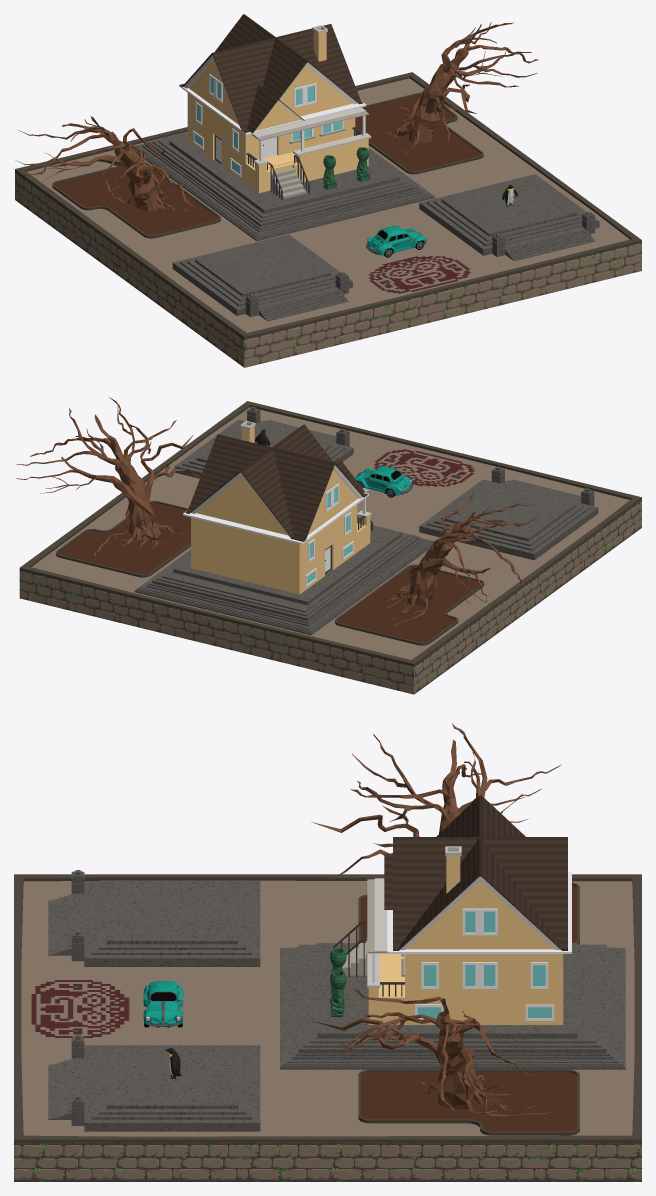
3 renders of one model, top to bottom at view 1: azimuth 30°, elevation 25°; view 2: azimuth 150°, elevation 25°; view 3: azimuth 270°, elevation 25°, orthographic. The views are drawn at different scales.
Visible parts, largest first — view 1: Cube.011, Cube.235, VEHICLES_VOLKSWAGEN; view 2: Cube.011, Cube.235, VEHICLES_VOLKSWAGEN; view 3: Cube.011, Cube.235, VEHICLES_VOLKSWAGEN.
Boxes of the visible parts, x1,y1,x2,y2 form: Cube.011: (15,22,641,367); Cube.235: (179,14,371,199); VEHICLES_VOLKSWAGEN: (366,225,426,257); Cube.011: (14,397,641,694); Cube.235: (183,421,372,594); VEHICLES_VOLKSWAGEN: (354,466,412,497); Cube.011: (14,723,641,1181); Cube.235: (333,795,571,1024); VEHICLES_VOLKSWAGEN: (143,981,183,1027).
Size of the model in its own units: 5099 by 1663 by 4000.
30 materials, 5 textured.
